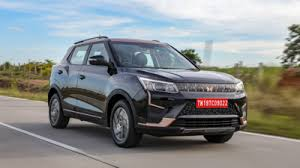XUV 400: (46, 33, 248, 147)
